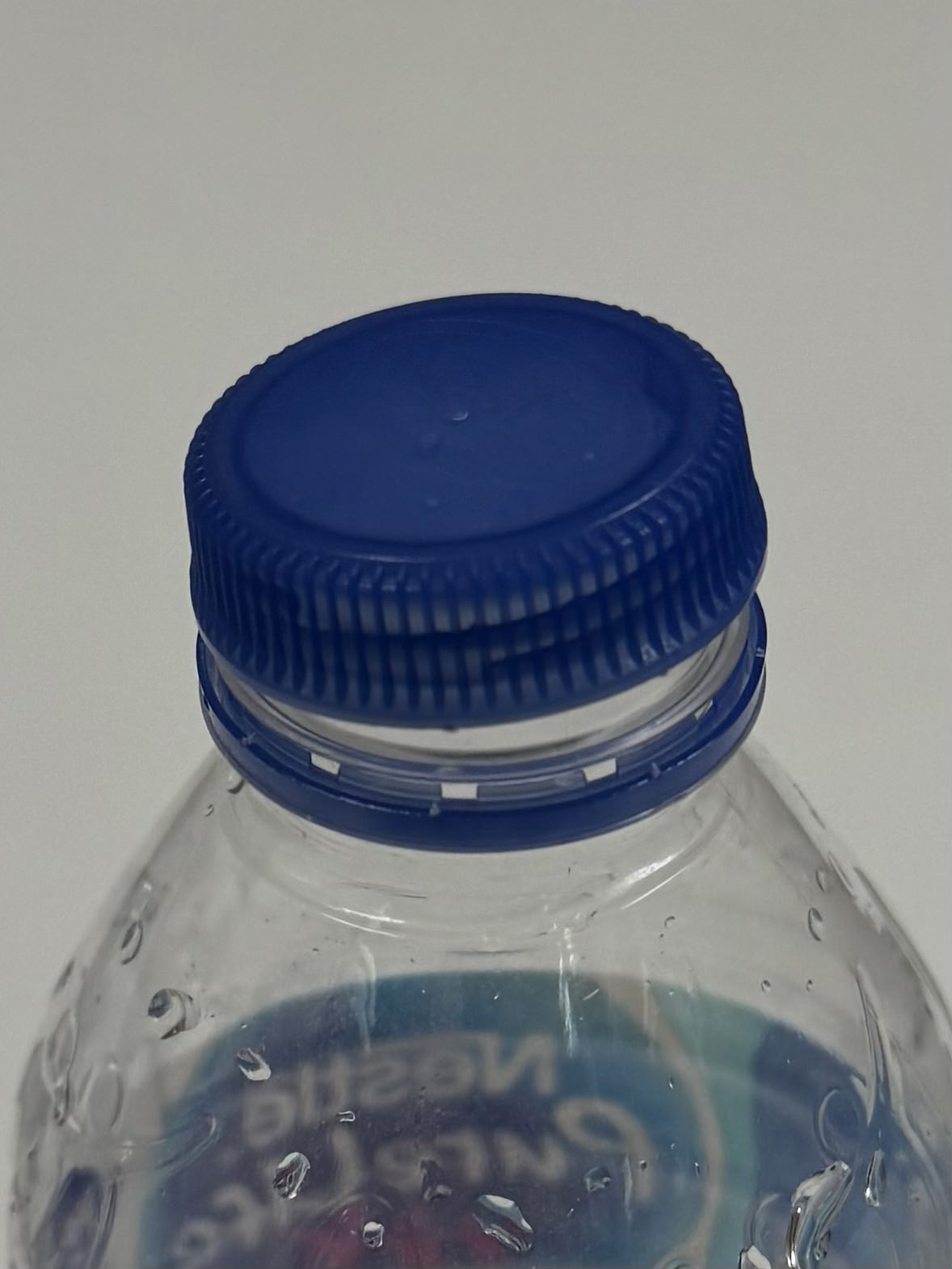half_cap: (170, 277, 782, 847)
